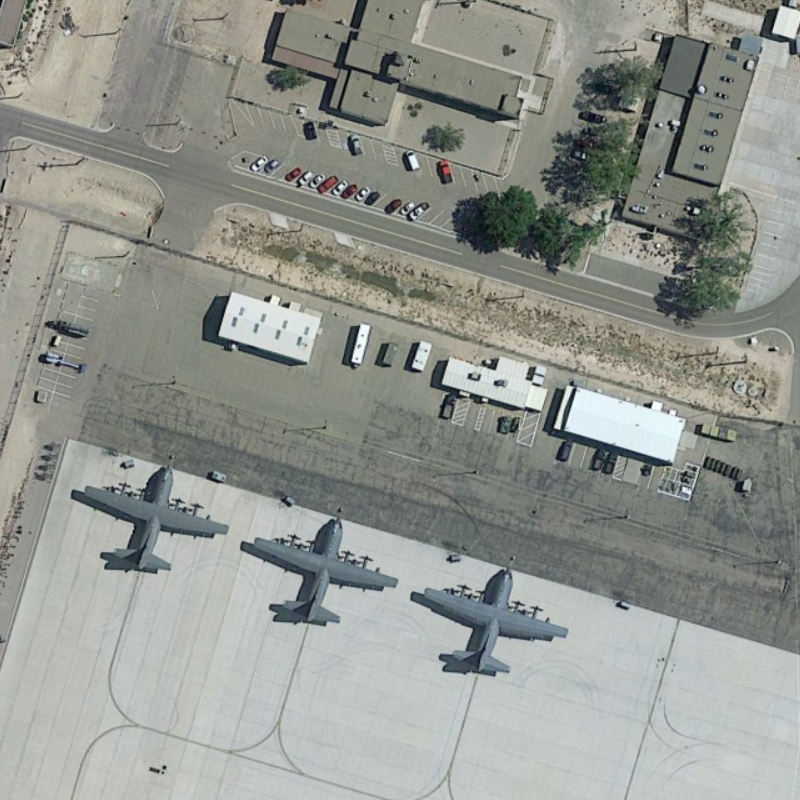A2: (416, 557, 572, 685), (246, 511, 403, 633), (76, 461, 233, 578)
